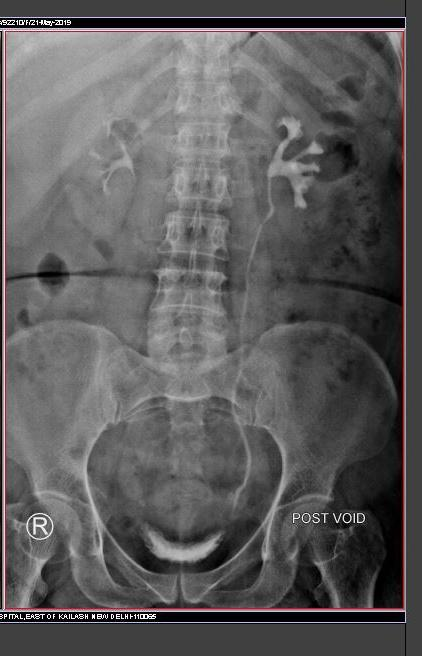bladder: (117, 487, 252, 576)
left kidney: (256, 61, 374, 245)
right kidney: (53, 70, 162, 241)
vertebrae: (172, 120, 234, 162)
